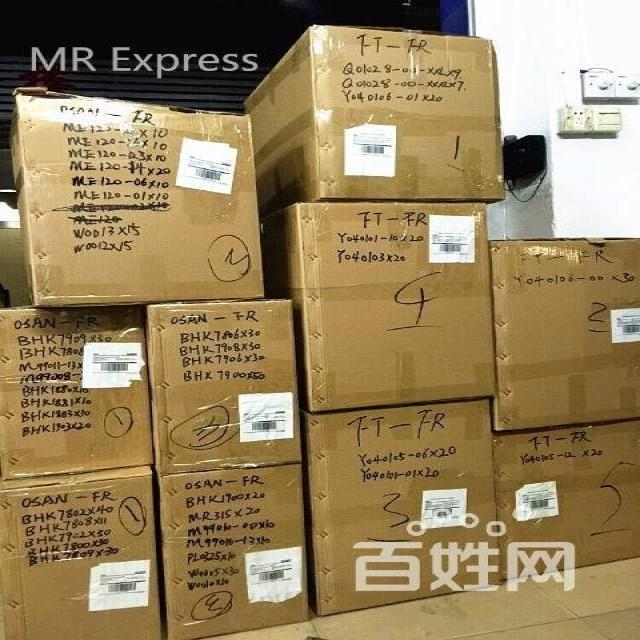box: (4, 85, 264, 307), (243, 24, 501, 220), (260, 203, 497, 414), (301, 398, 500, 616), (489, 236, 640, 431), (0, 465, 165, 640), (147, 300, 303, 477), (0, 306, 153, 480), (157, 465, 309, 640), (496, 420, 640, 584), (0, 228, 28, 306)
